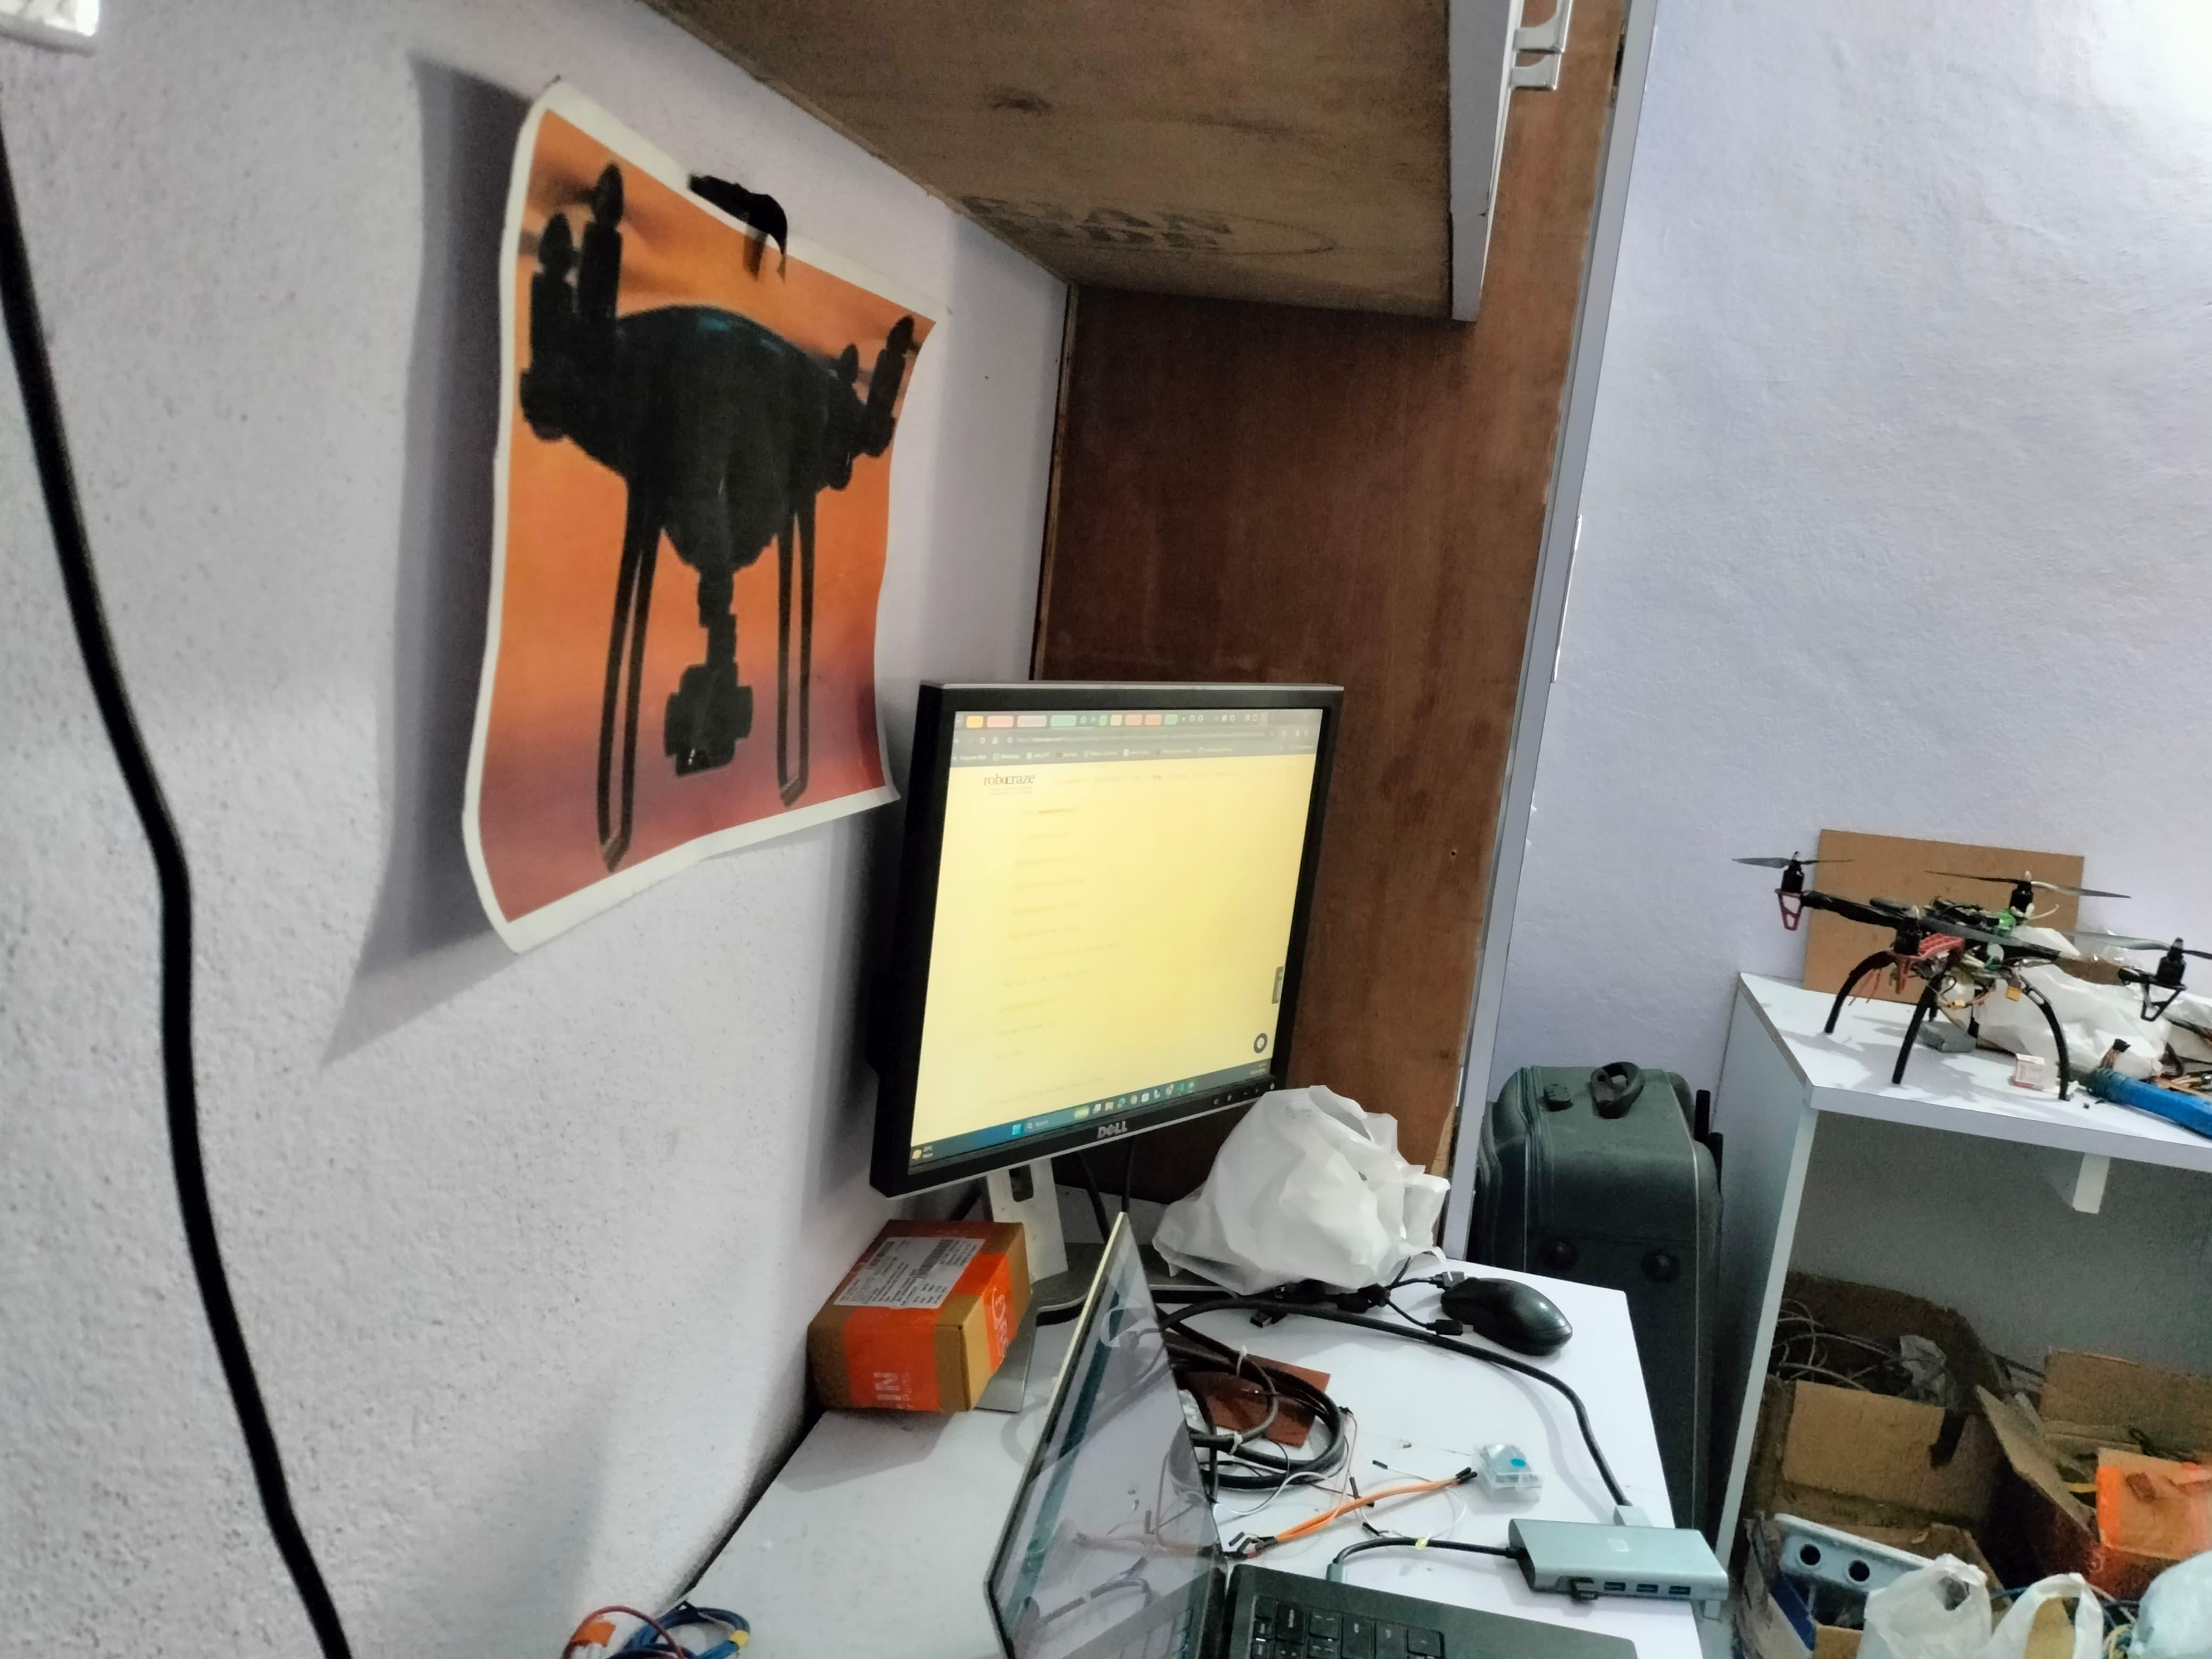drone: (496, 214, 927, 871)
